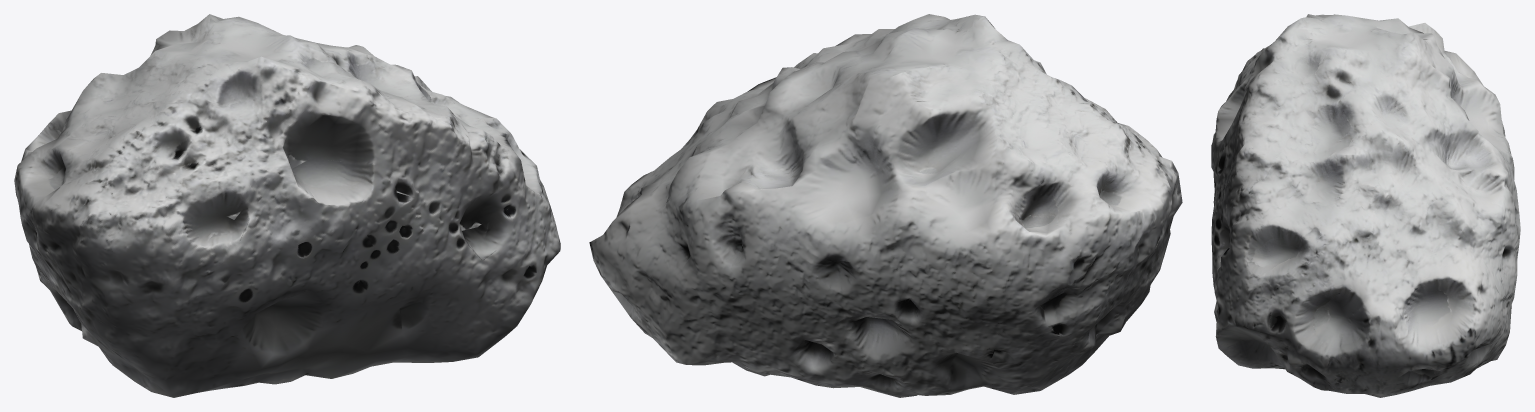
Rendered from asteroid_0.glb.
3 views of the same model, side by side, from view 1: azimuth 30°, elevation 25°; view 2: azimuth 150°, elevation 25°; view 3: azimuth 270°, elevation 25° (orthographic). The views are drawn at different scales.
Parts seen in each view (by area): view 1: Mesh1.0; view 2: Mesh1.0; view 3: Mesh1.0.
Part boxes in pixels (bbox=[...]): Mesh1.0: bbox=[14, 14, 560, 397]; Mesh1.0: bbox=[589, 14, 1182, 397]; Mesh1.0: bbox=[1211, 14, 1520, 397].
Size of the model in its own units: 1.62 by 1 by 0.991.
Materials: 1 (1 with a texture image).
